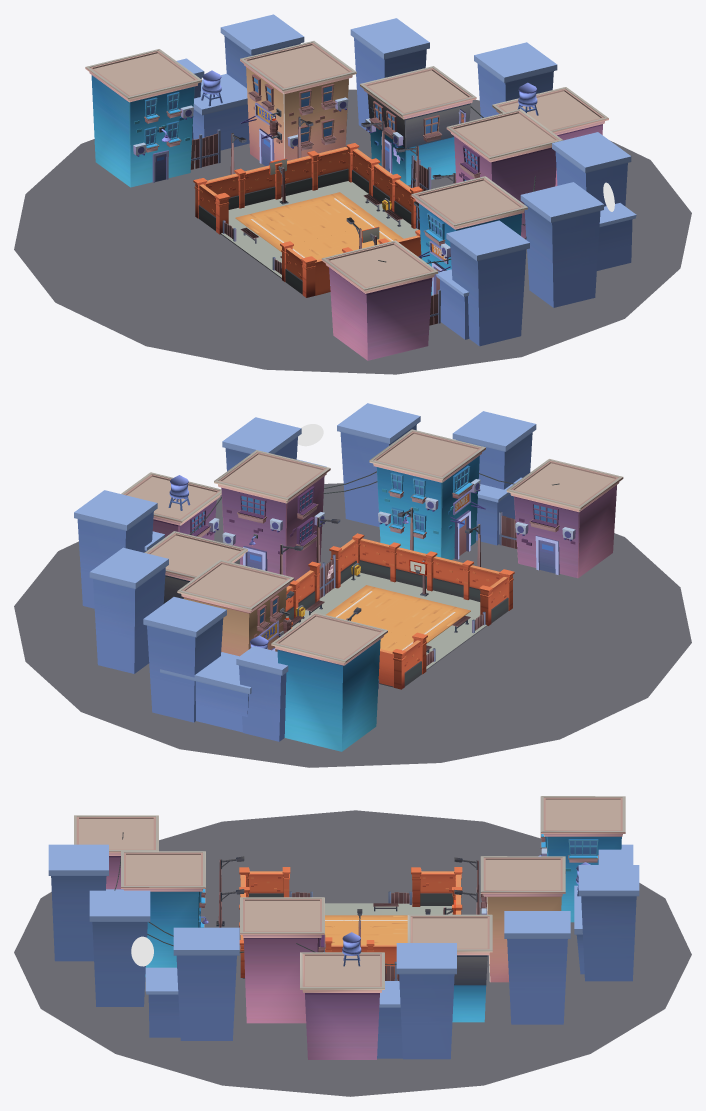
Rendered from City_Street.FBX.
The picture shows the model from 3 angles, top to bottom: view 1: azimuth 30°, elevation 25°; view 2: azimuth 150°, elevation 25°; view 3: azimuth 270°, elevation 25°; orthographic projection.
Visible parts, largest first — view 1: City_Street; view 2: City_Street; view 3: City_Street.
Boxes of the visible parts, x1,y1,x2,y2 form: City_Street: [14, 14, 691, 374]; City_Street: [14, 403, 691, 767]; City_Street: [14, 796, 691, 1096].
Size of the model in its own units: 10536 by 1824 by 10536.
